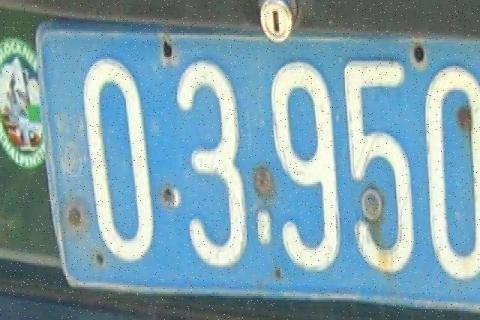LicensePlate: (4, 1, 480, 315)
